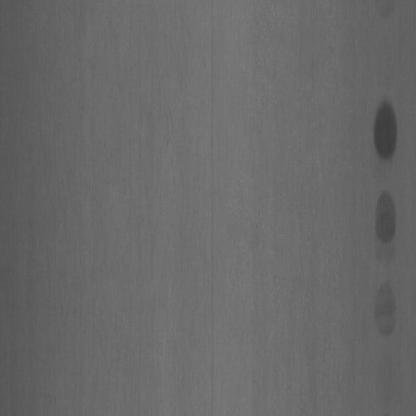oil_spot: (371, 83, 401, 168), (372, 186, 400, 266), (372, 282, 400, 342)
